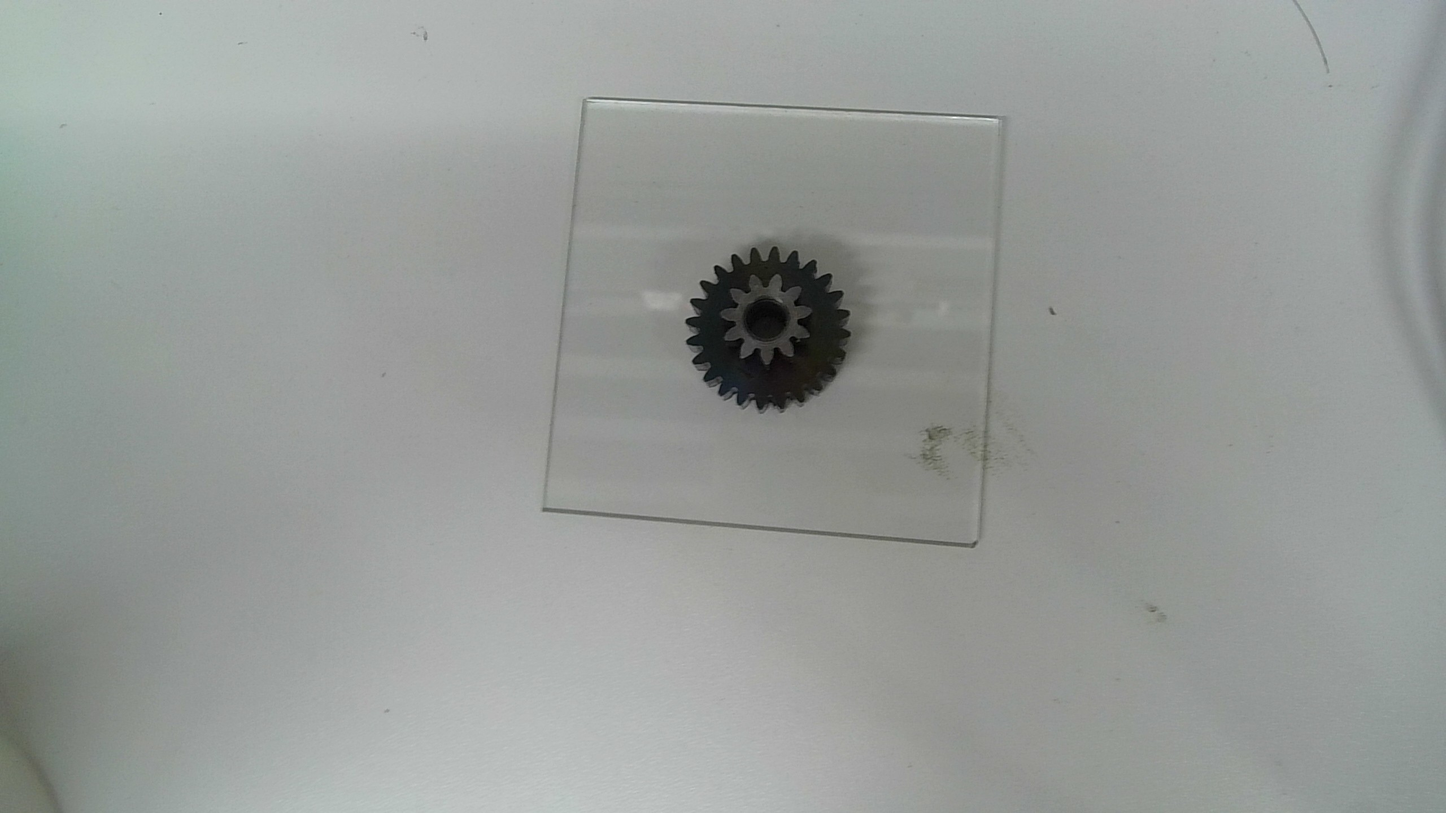gear: (683, 241, 855, 417)
